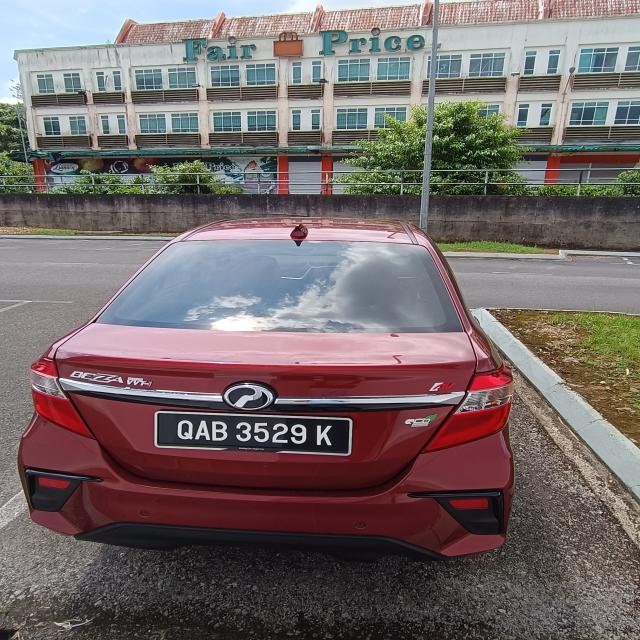PeroduaBezza: (17, 215, 517, 561)
